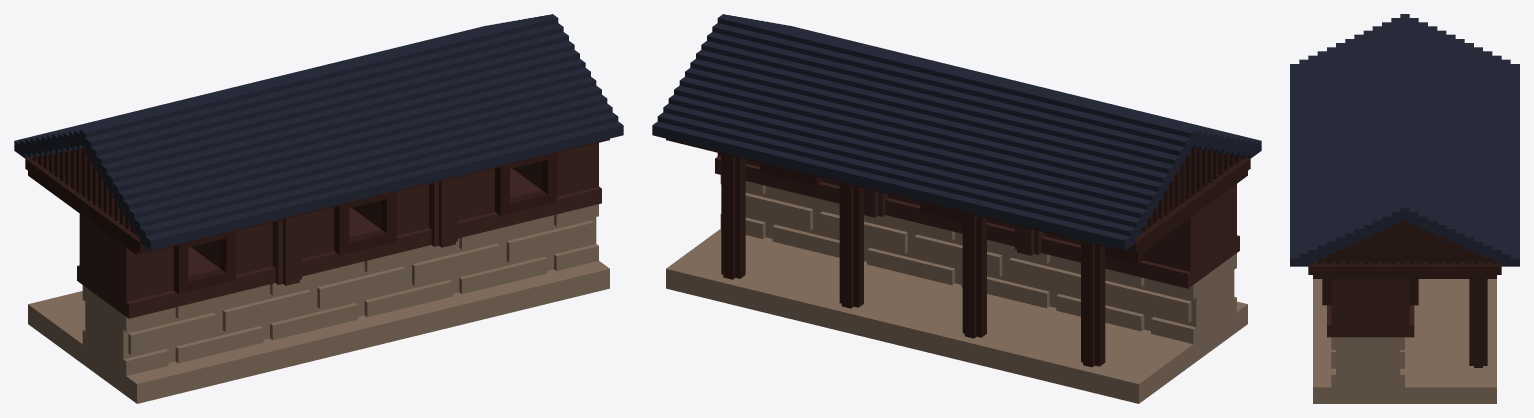
Rendered from Korean castle_small wall_01.FBX.
3 renders of one model, left to right at view 1: azimuth 30°, elevation 25°; view 2: azimuth 150°, elevation 25°; view 3: azimuth 270°, elevation 25°, orthographic. The views are drawn at different scales.
Parts seen in each view (by area): view 1: Voxel_Korean_traditional castle-16; view 2: Voxel_Korean_traditional castle-16; view 3: Voxel_Korean_traditional castle-16.
Part boxes in pixels (left/top/right/bottom): Voxel_Korean_traditional castle-16: left=14, top=14, right=623, bottom=403; Voxel_Korean_traditional castle-16: left=652, top=14, right=1261, bottom=403; Voxel_Korean_traditional castle-16: left=1290, top=14, right=1519, bottom=403.
Bounding box in the file's own units: 200 × 94.05 × 100.
1 material, 1 textured.
